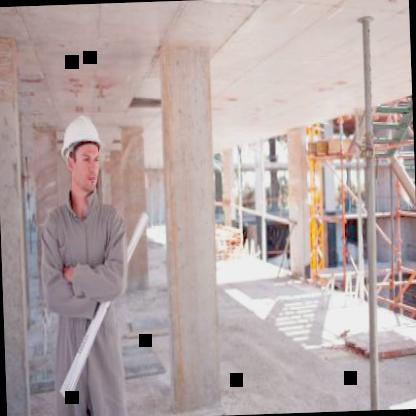helmet: (58, 107, 110, 197)
